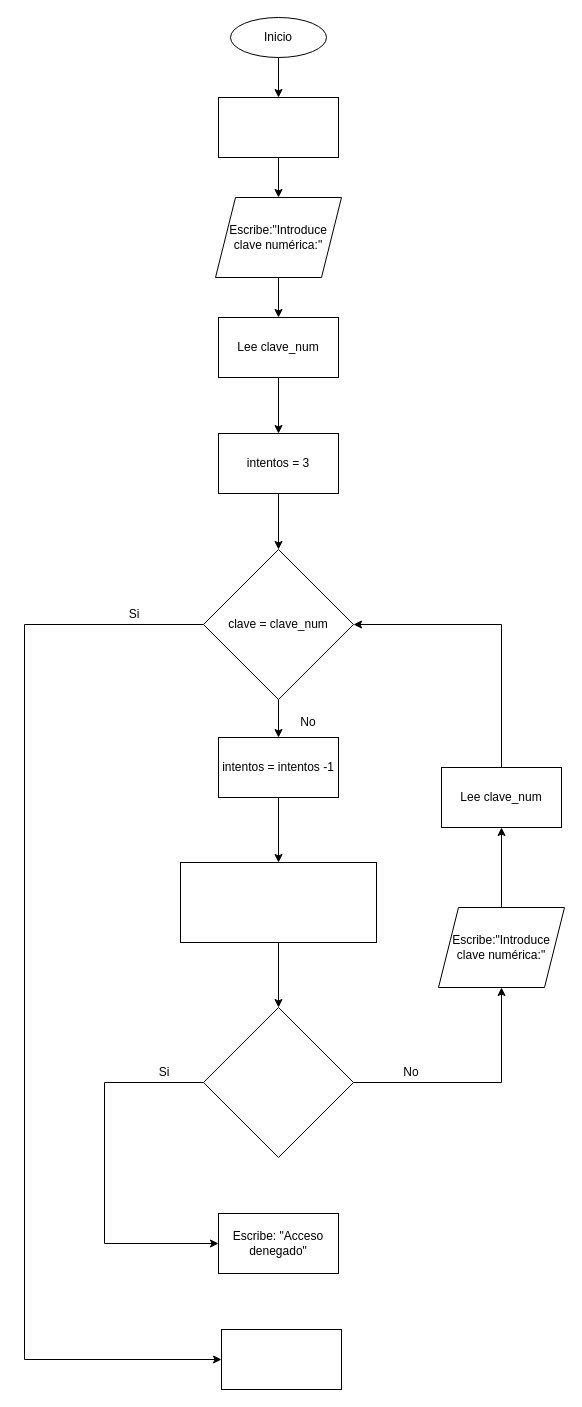
Some shapes in this 582 by 1407 pixel diagram are drawn without their labels. The shapes that lost their labels are listed below. From the top down, each one's centre as x and y in pixels, then its label:
[278,127]: clave = 2468
[278,902]: Escribe: "Clave incorrecta. Intentos restantes: " + intentos
[278,1082]: intentos = 0
[281,1359]: Escribe: "Acceso permitido."
